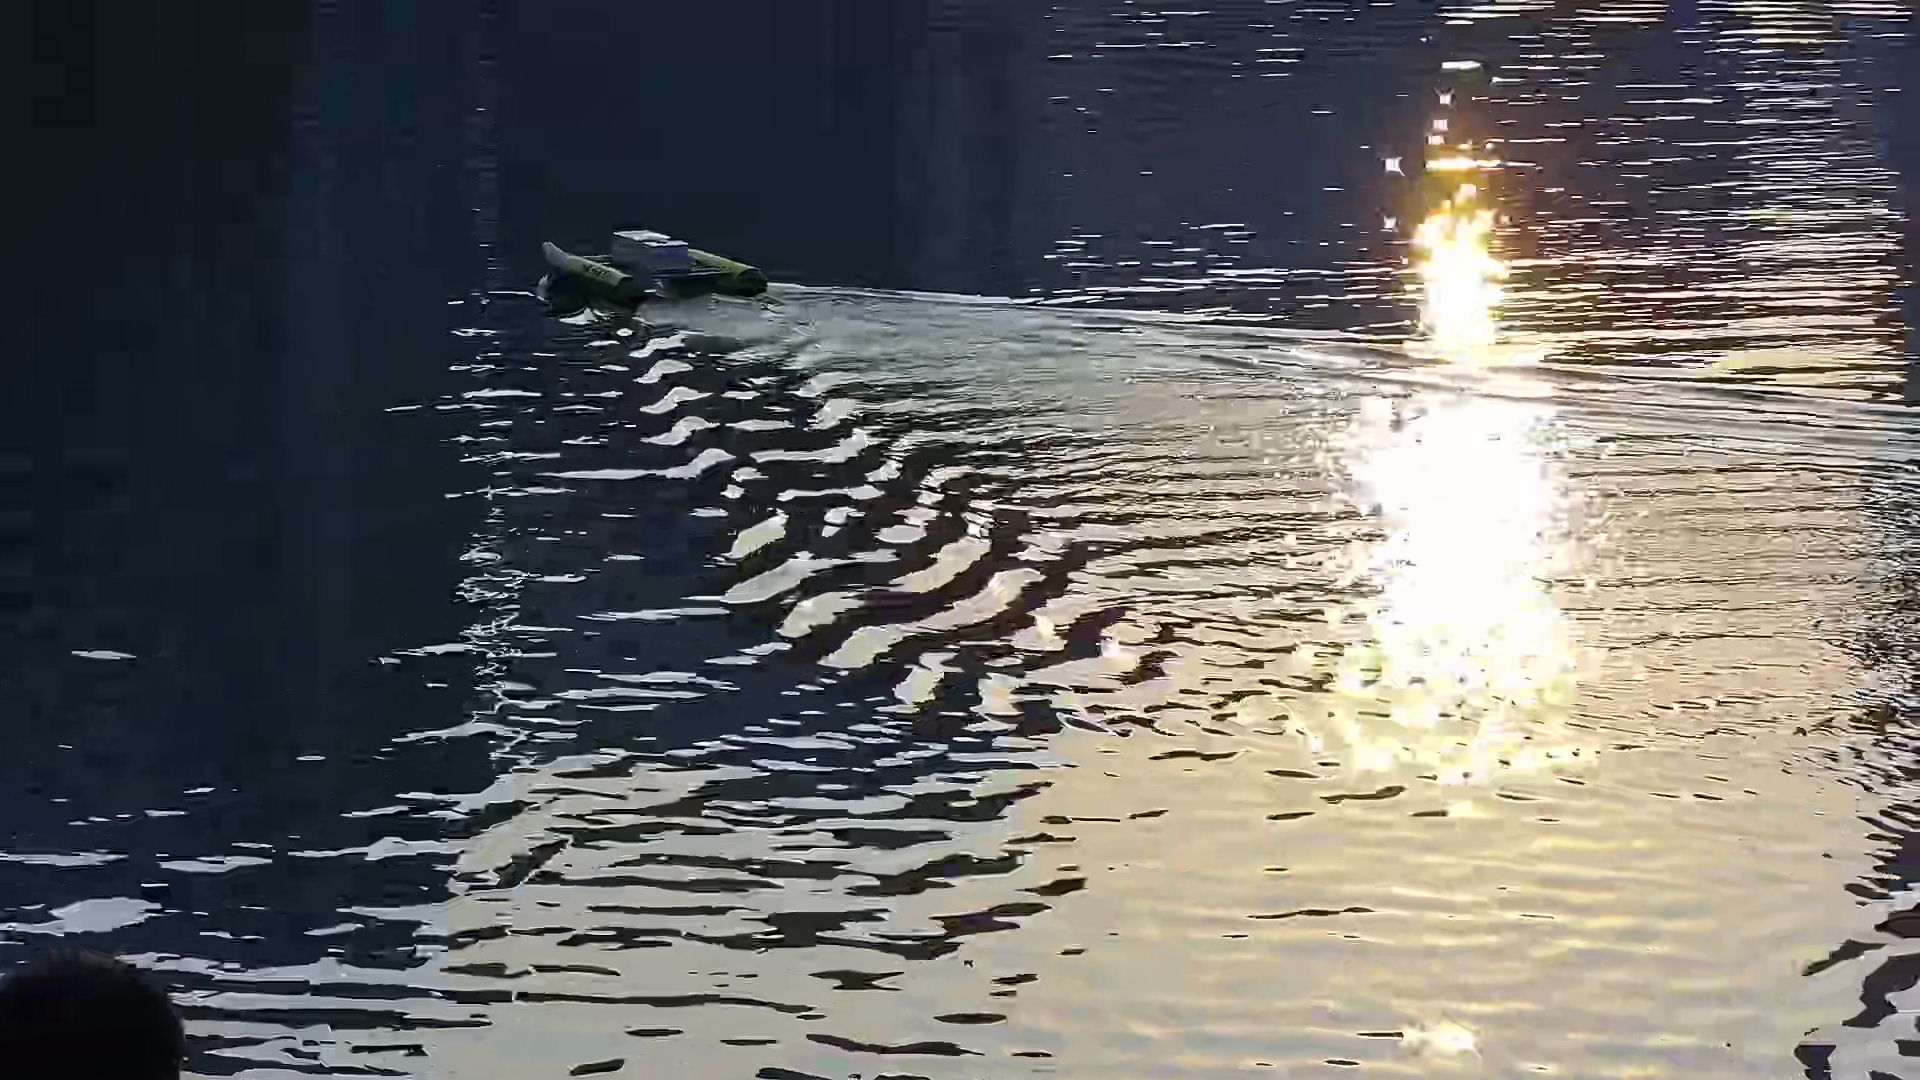boat: (542, 218, 762, 323)
